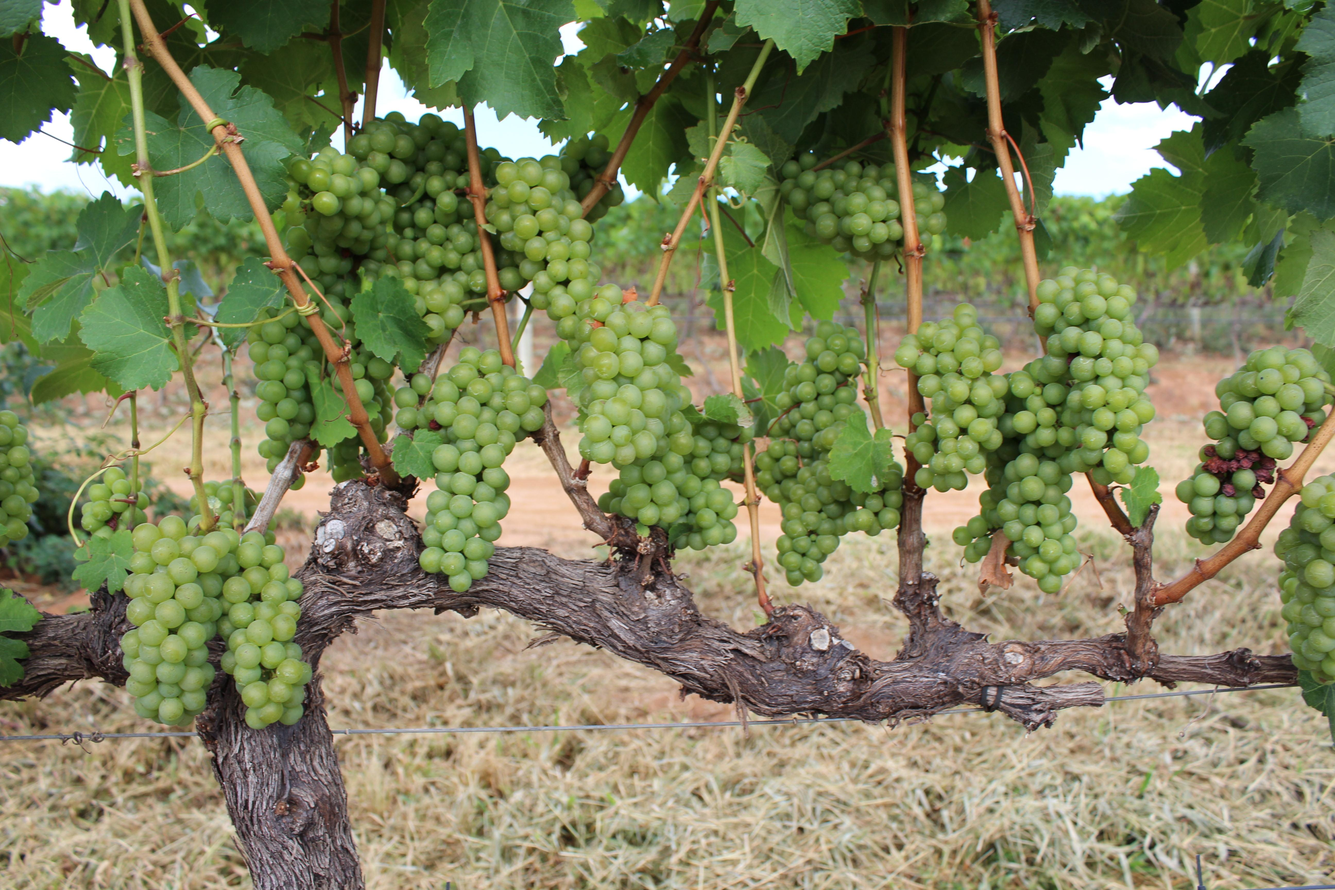leaf: (19, 192, 142, 342), (425, 0, 575, 117), (191, 65, 303, 209), (747, 43, 875, 144), (80, 266, 179, 390), (1243, 108, 1335, 220), (734, 0, 862, 74), (70, 56, 135, 187), (0, 34, 76, 143), (350, 276, 430, 373), (155, 156, 253, 228), (206, 0, 329, 54), (30, 334, 123, 404), (786, 218, 849, 320), (1286, 228, 1335, 346), (1296, 4, 1335, 136), (1185, 0, 1263, 65), (146, 97, 214, 170), (943, 167, 1009, 240), (216, 257, 285, 324), (829, 410, 878, 493), (72, 529, 134, 593), (744, 346, 790, 432), (311, 379, 357, 448), (719, 141, 771, 194), (1298, 670, 1335, 741), (392, 429, 444, 479), (1120, 466, 1162, 527), (531, 340, 570, 389), (0, 588, 42, 632), (703, 393, 754, 426), (0, 0, 42, 37), (0, 635, 29, 686), (220, 327, 247, 347), (117, 127, 133, 154), (766, 151, 786, 157), (1299, 40, 1304, 49), (758, 144, 765, 150), (1308, 24, 1312, 30), (793, 324, 798, 327), (842, 41, 849, 43), (1234, 0, 1239, 2), (747, 347, 752, 349), (1313, 18, 1315, 23), (116, 71, 119, 74), (1216, 0, 1218, 2), (764, 344, 768, 345), (1305, 31, 1306, 35), (1318, 13, 1320, 15), (359, 319, 360, 322)
